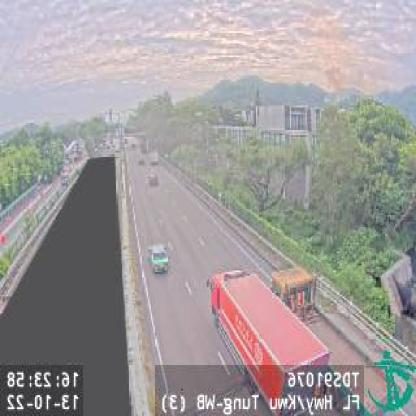Car: (149, 240, 170, 278), (149, 173, 160, 188)
Truck: (206, 268, 329, 415)
